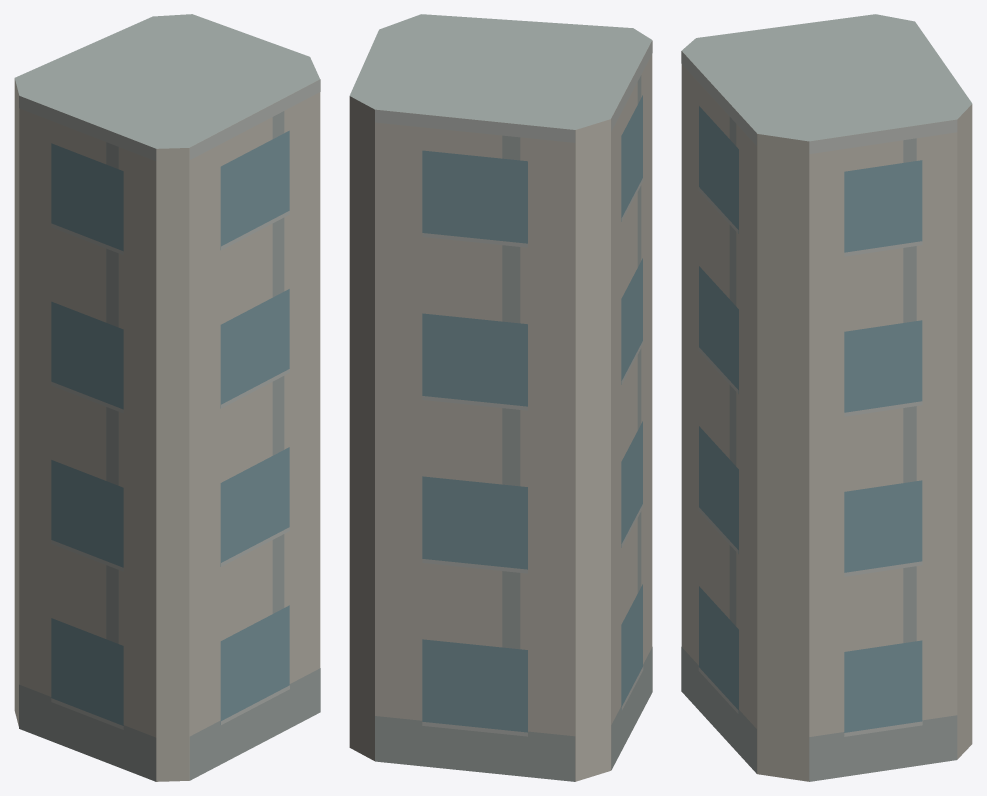
The model's file is survey-upis-32645576.glb.
3 renders of one model, left to right at view 1: azimuth 30°, elevation 25°; view 2: azimuth 150°, elevation 25°; view 3: azimuth 270°, elevation 25°, orthographic. The views are drawn at different scales.
Visible parts, largest first — view 1: survey-upis-32645576.tmp; view 2: survey-upis-32645576.tmp; view 3: survey-upis-32645576.tmp.
Part boxes in pixels (box(x1,y1,x2,y2)): survey-upis-32645576.tmp: box(14, 14, 320, 781); survey-upis-32645576.tmp: box(349, 14, 652, 781); survey-upis-32645576.tmp: box(681, 14, 972, 781).
Size of the model in its own units: 5.21 by 12.2 by 5.03.
